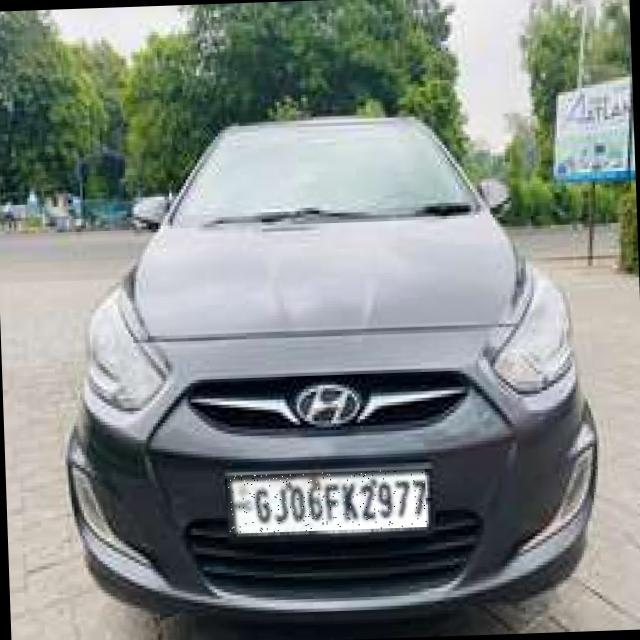Plate: (228, 470, 428, 535)
